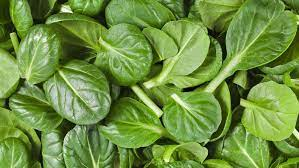spinach: (28, 50, 104, 123), (223, 1, 299, 67), (168, 87, 228, 157), (151, 18, 204, 94), (237, 81, 297, 138), (93, 36, 154, 90), (18, 29, 65, 71)
